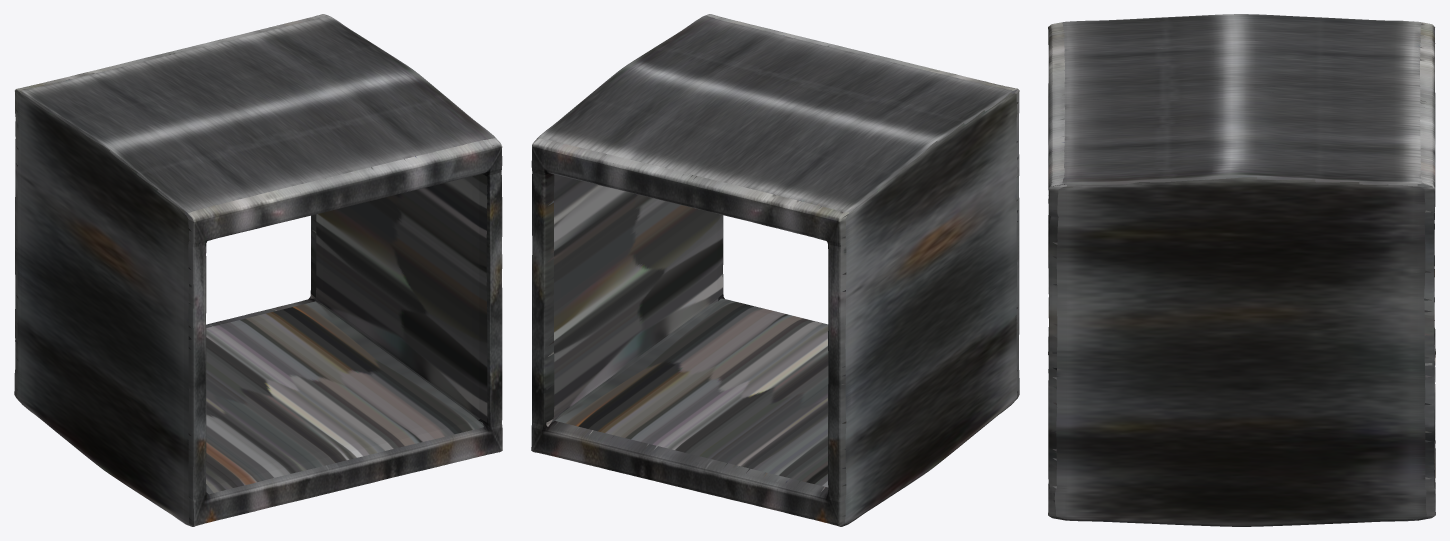
Rendered from window-steel-frame.glb.
The picture shows the model from 3 angles, left to right: view 1: azimuth 30°, elevation 25°; view 2: azimuth 150°, elevation 25°; view 3: azimuth 270°, elevation 25°; orthographic projection. The views are drawn at different scales.
Parts seen in each view (by area): view 1: tmpwqeufxma.ply; view 2: tmpwqeufxma.ply; view 3: tmpwqeufxma.ply.
Boxes of the visible parts, x1,y1,x2,y2 form: tmpwqeufxma.ply: (14,14,502,526); tmpwqeufxma.ply: (531,14,1019,526); tmpwqeufxma.ply: (1048,14,1435,526).
Size of the model in its own units: 1 by 1 by 1.
1 material, 1 textured.
